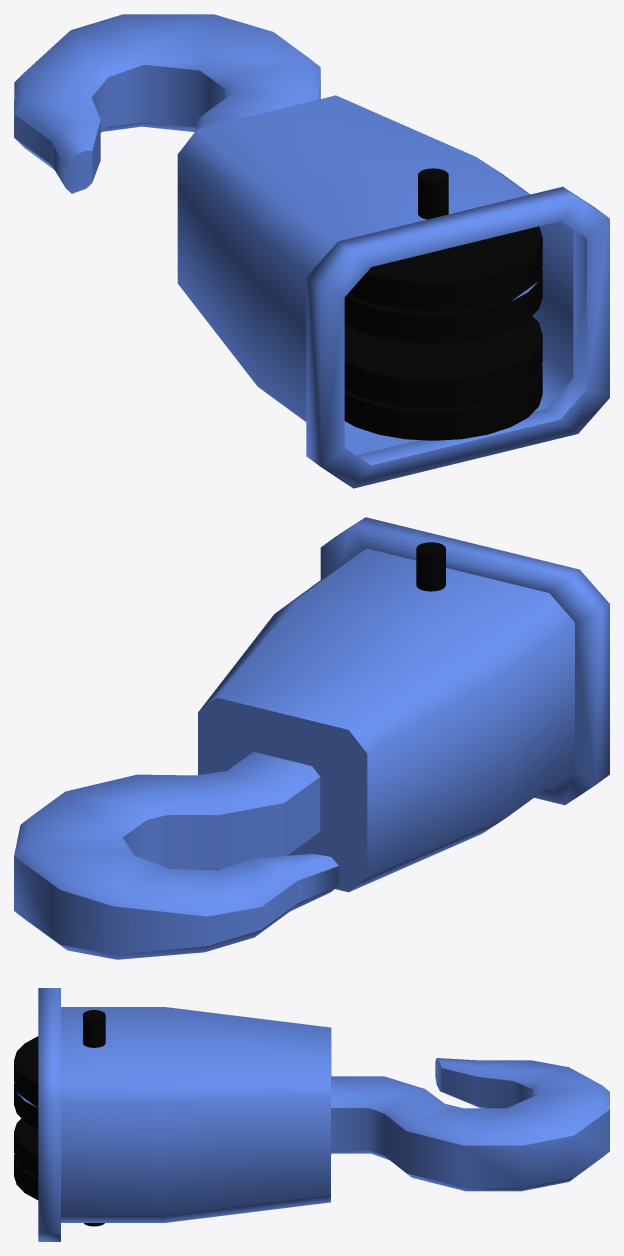
File: Hook.glb
3 renders of one model, top to bottom at view 1: azimuth 30°, elevation 25°; view 2: azimuth 150°, elevation 25°; view 3: azimuth 270°, elevation 25°, orthographic. The views are drawn at different scales.
Visible parts, largest first — view 1: Hook; view 2: Hook; view 3: Hook.
Part boxes in pixels (x1,y1,x2,y2): Hook: (14,14,609,488); Hook: (14,517,609,959); Hook: (14,988,609,1241).
Bounding box in the file's own units: 0.7193 × 0.6707 × 1.75.
